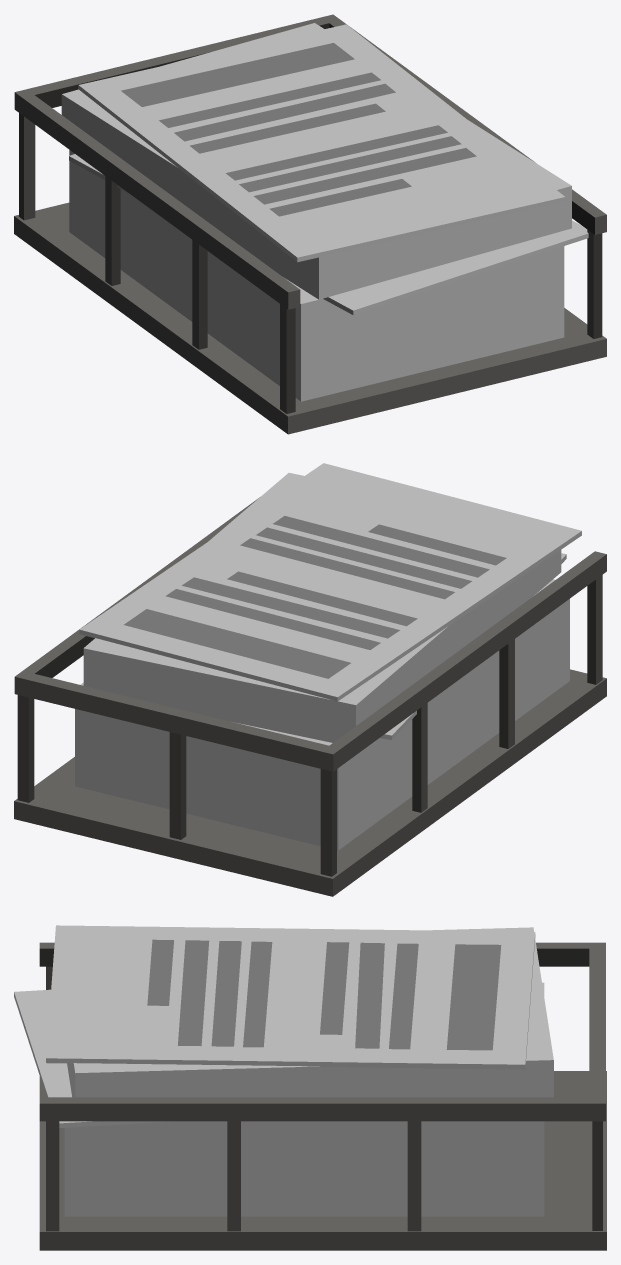
The model's file is SO_PaperTray_03.fbx.
The picture shows the model from 3 angles, top to bottom: view 1: azimuth 30°, elevation 25°; view 2: azimuth 150°, elevation 25°; view 3: azimuth 270°, elevation 25°; orthographic projection. The views are drawn at different scales.
Parts seen in each view (by area): view 1: SO_PaperTray_03; view 2: SO_PaperTray_03; view 3: SO_PaperTray_03.
Boxes of the visible parts, bbox=[...] form: SO_PaperTray_03: bbox=[14, 14, 606, 434]; SO_PaperTray_03: bbox=[14, 463, 606, 896]; SO_PaperTray_03: bbox=[14, 925, 606, 1250].
Bounding box in the file's own units: 0.5811 × 0.2889 × 0.8988.
